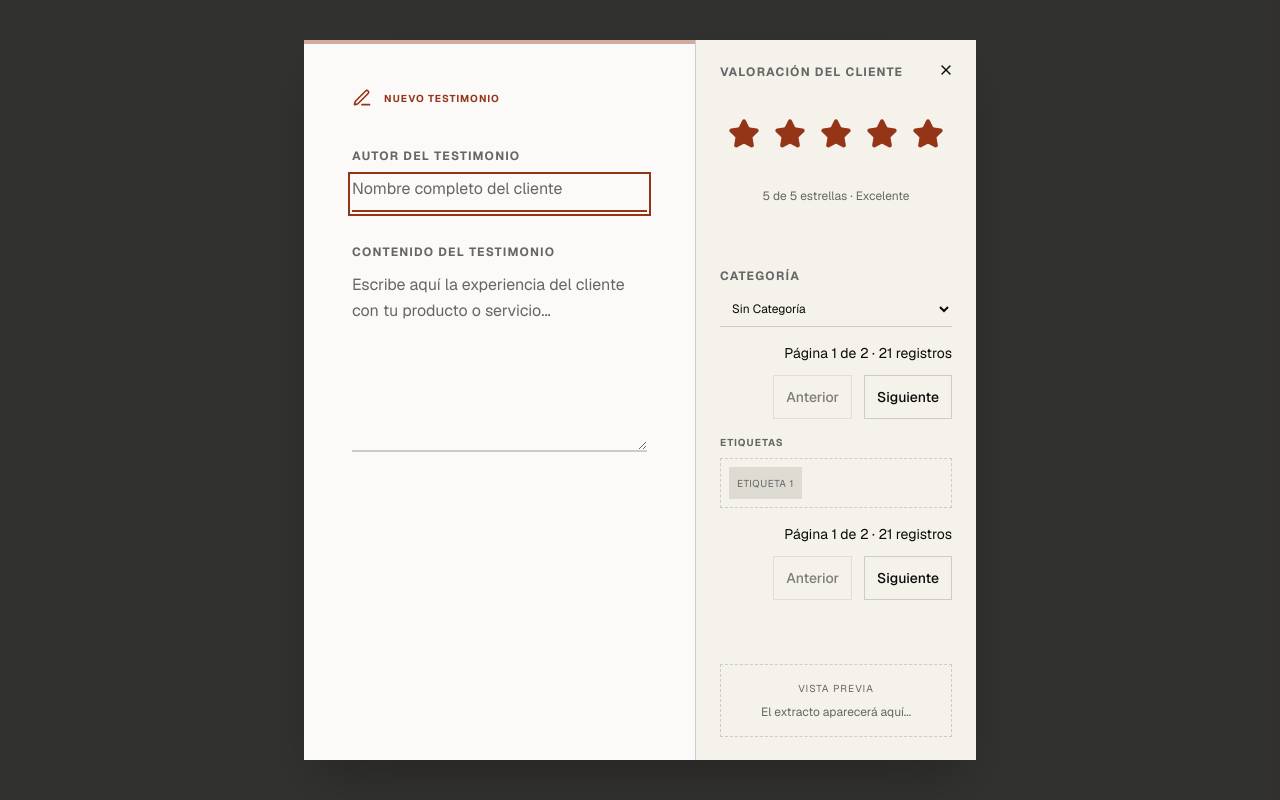
Creación y borradores › pagina categorías y etiquetas con campos válidos sin crear registros
The width and height of the screenshot is (1280, 800).
Step 1. Type "Autor sintético" into the field labelled "Autor del testimonio" → (500, 194), box [352,176,647,212]
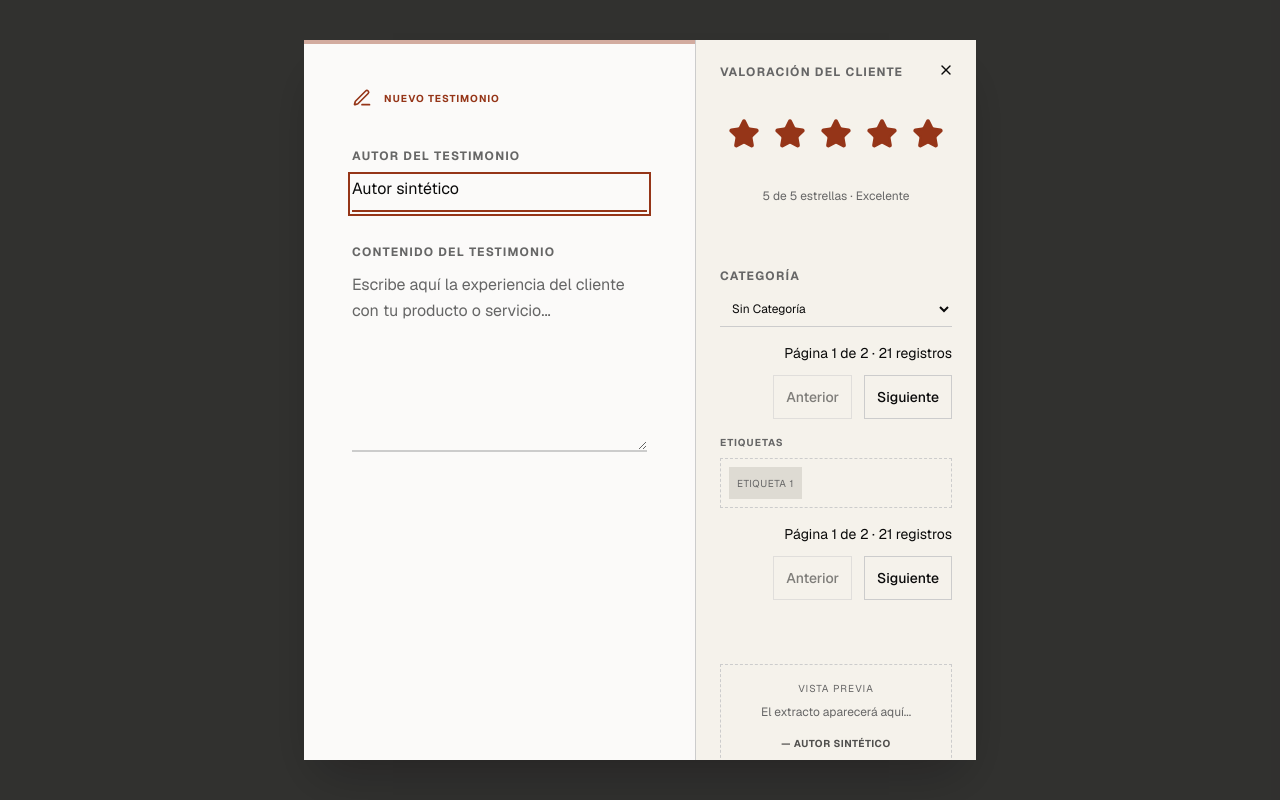
Step 2. Type "Un borrador que debe conservarse" into the text box labelled "Contenido del testimonio" → (500, 362), box [352,272,647,452]
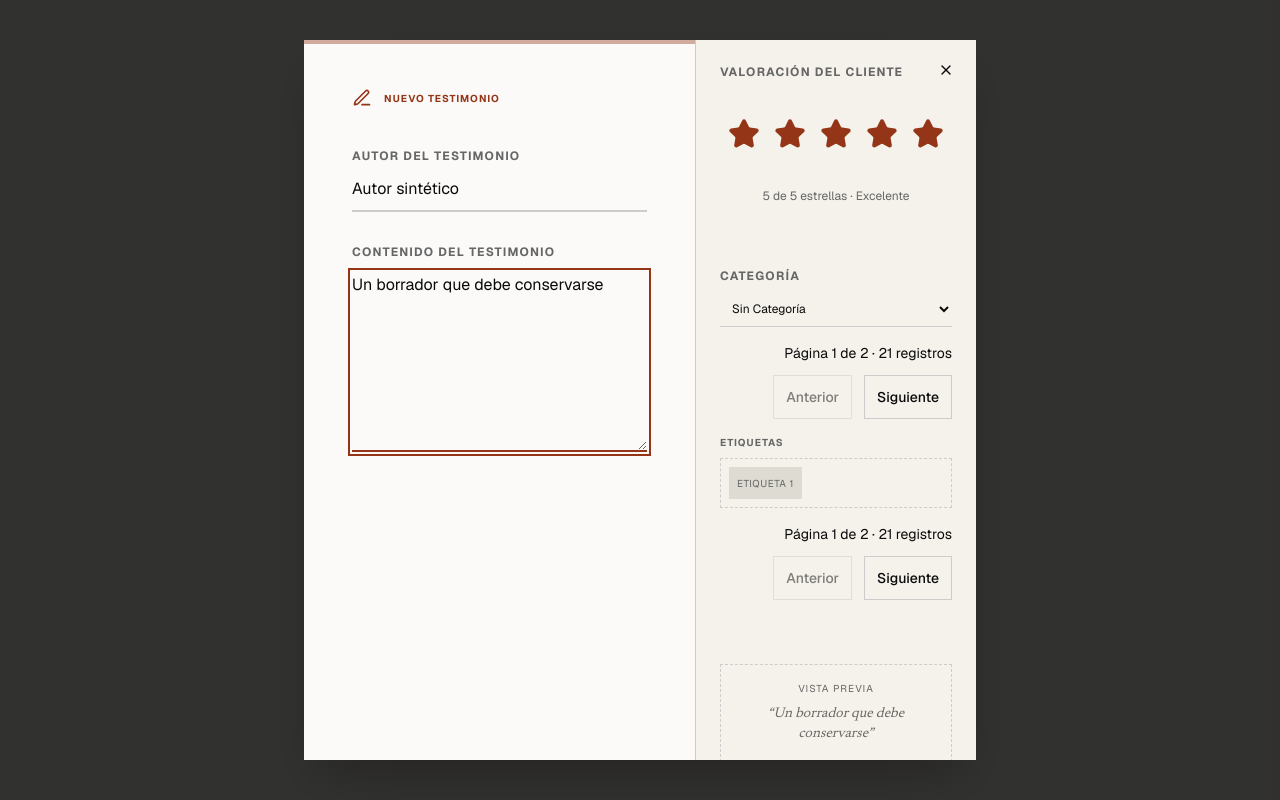
Step 3. Click the button "Siguiente" below "Categoría" → click(908, 397), box [864,375,952,419]
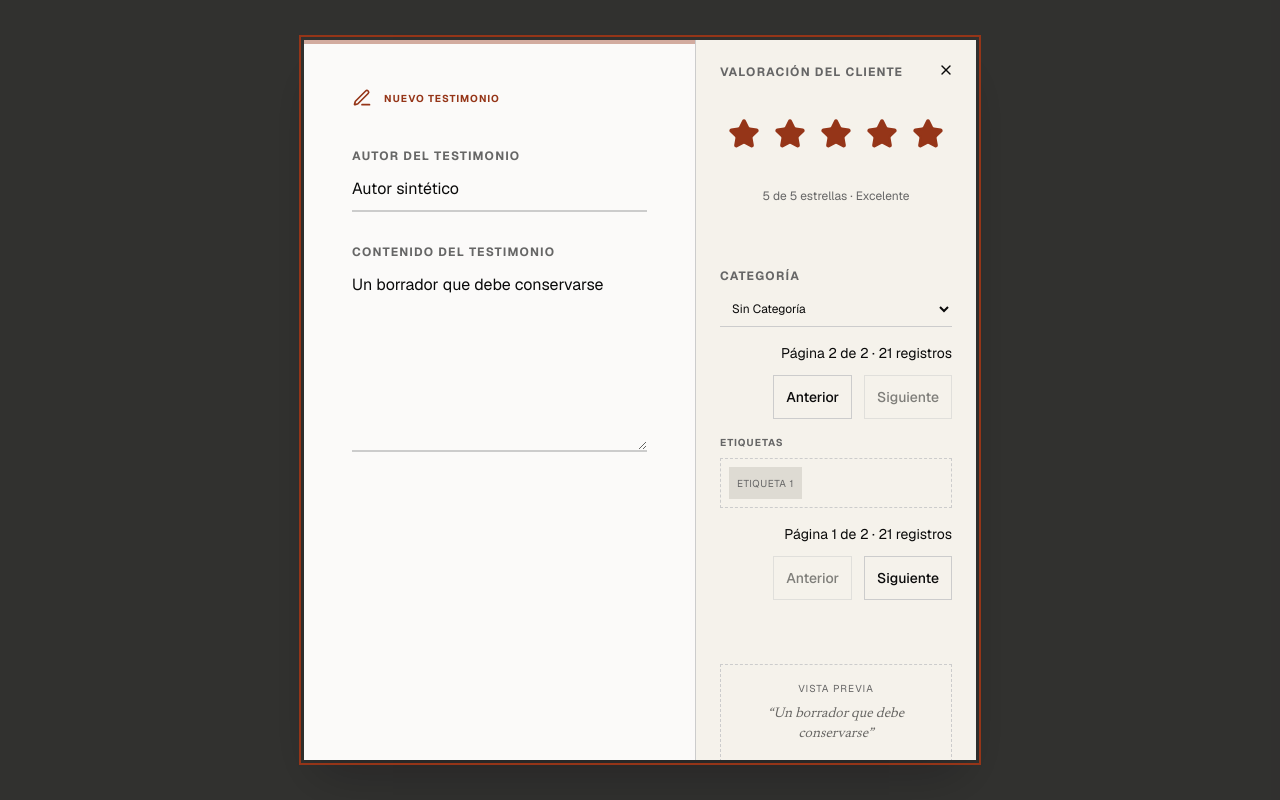
Step 4. Click the button "Siguiente" below "Etiquetas" → click(908, 578), box [864,556,952,600]
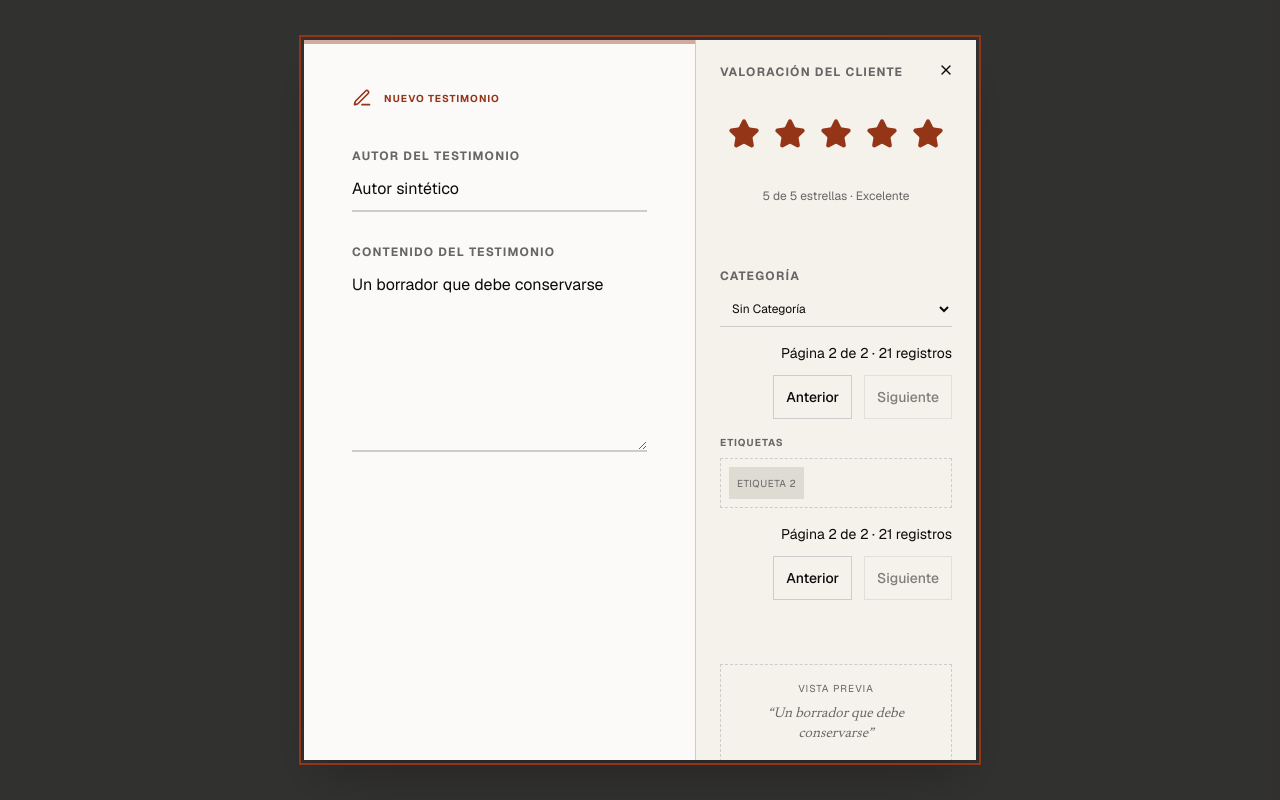
Expected: the button "Etiqueta 2" is shown, [729,467,804,499]
